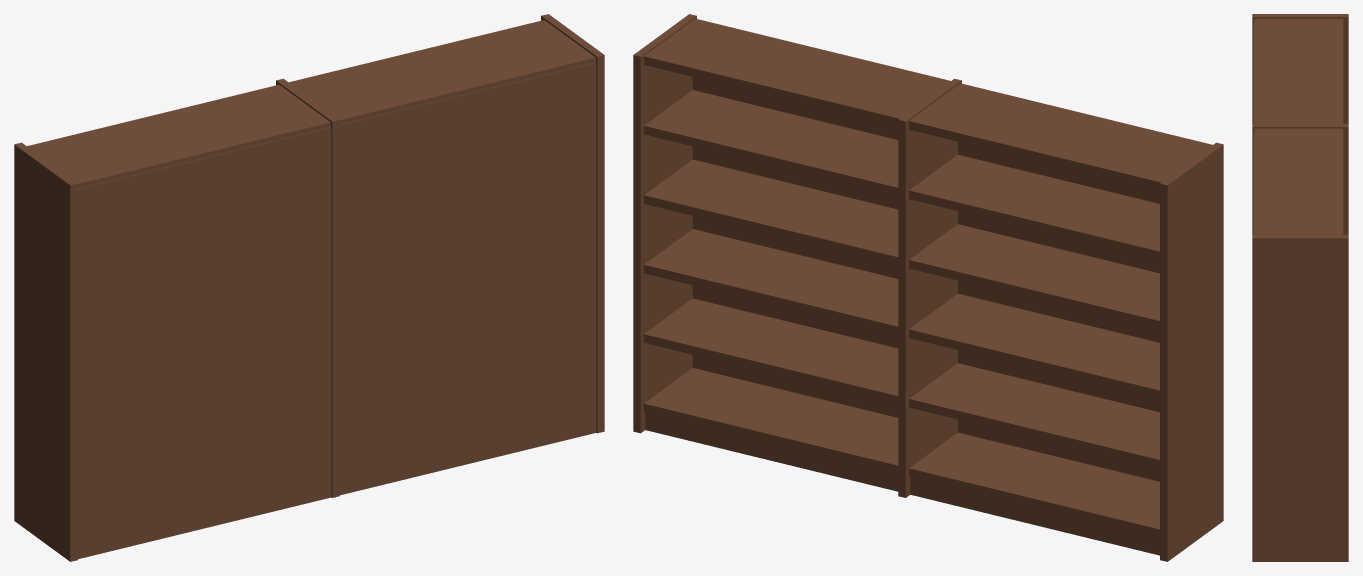
Rendered from Storage.fbx.
The picture shows the model from 3 angles, left to right: view 1: azimuth 30°, elevation 25°; view 2: azimuth 150°, elevation 25°; view 3: azimuth 270°, elevation 25°; orthographic projection. The views are drawn at different scales.
Visible parts, largest first — view 1: bookcase; view 2: bookcase; view 3: bookcase.
Part boxes in pixels (left/top/right/bottom): bookcase: left=14, top=14, right=604, bottom=561; bookcase: left=633, top=14, right=1223, bottom=561; bookcase: left=1252, top=14, right=1348, bottom=561.
Size of the model in its own units: 191 by 128 by 34.68.
